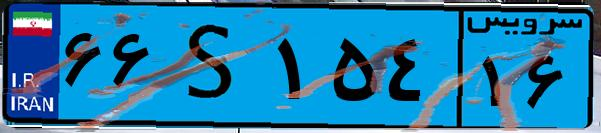1: (270, 28, 330, 110), (475, 38, 525, 113)
4: (385, 28, 445, 110)
5: (330, 28, 385, 110)
6: (57, 26, 110, 100), (525, 38, 570, 115), (110, 28, 158, 98)
S: (158, 12, 270, 120)
